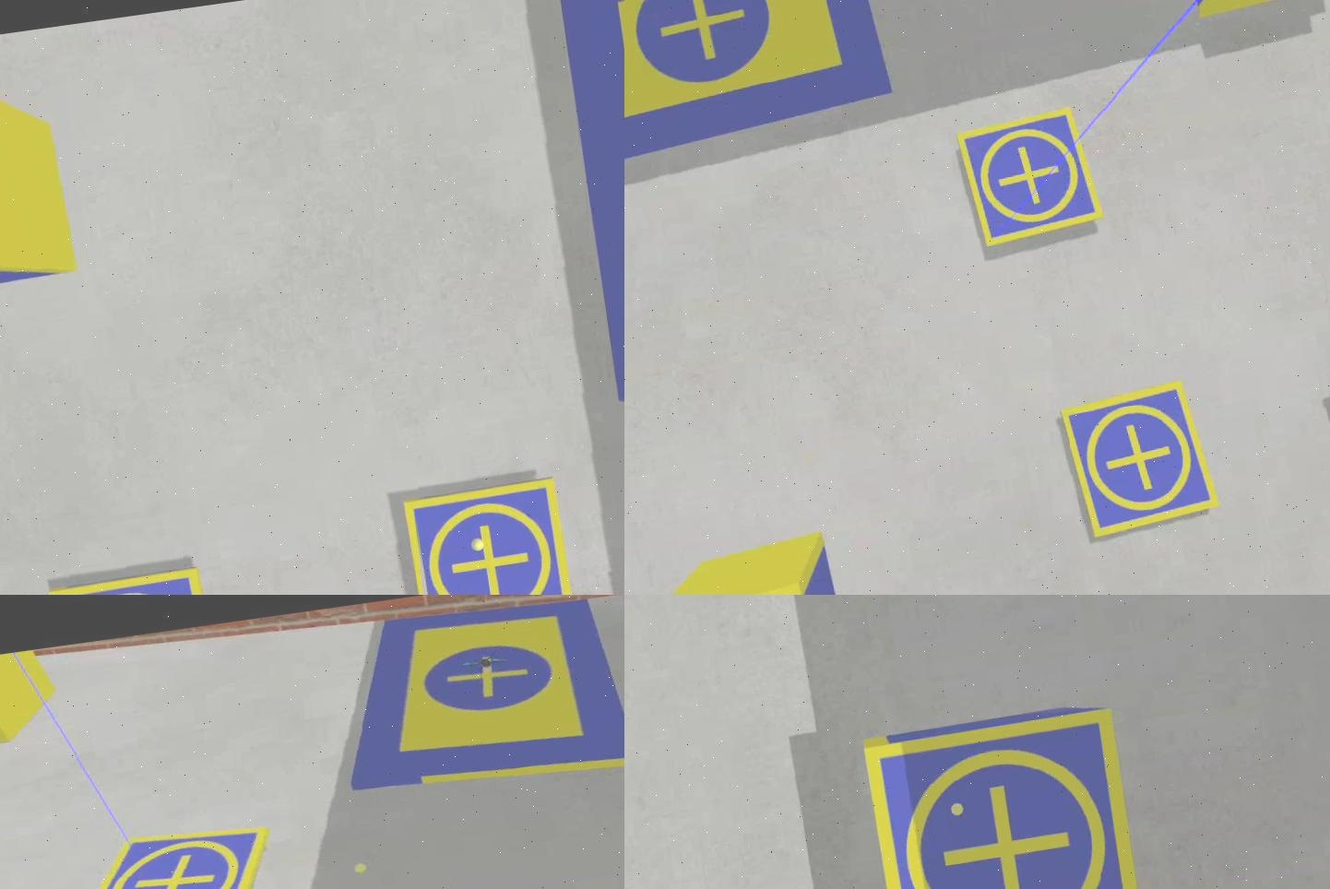large_base: (325, 595, 624, 813), (624, 1, 903, 180)
small_base: (864, 710, 1144, 889), (1059, 378, 1226, 546), (953, 103, 1108, 256), (403, 475, 577, 595), (54, 809, 283, 889), (45, 562, 222, 595)
